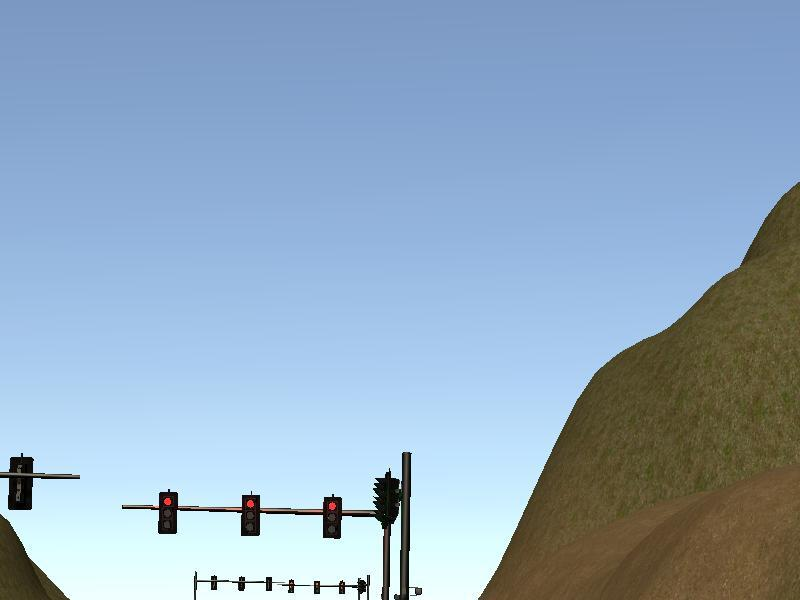Red: (241, 493, 261, 535), (158, 491, 177, 534), (325, 496, 342, 538)
